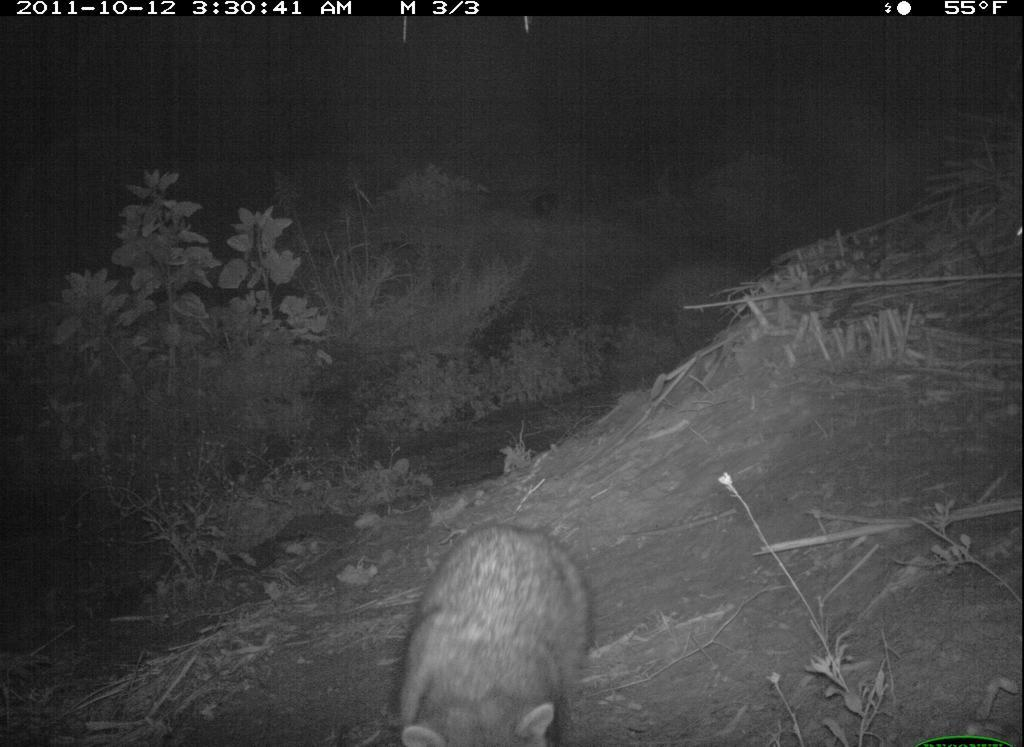raccoon: (378, 509, 611, 745)
